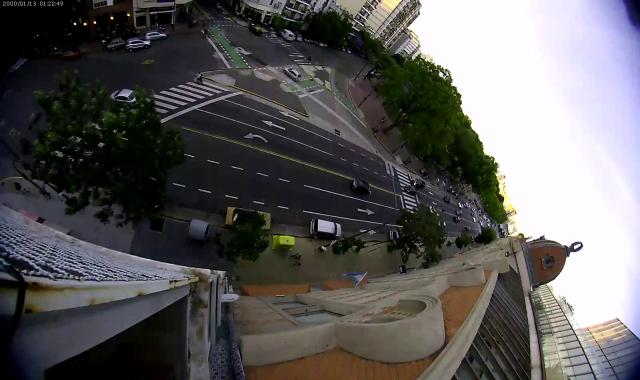car: (225, 208, 271, 231), (310, 219, 341, 238), (110, 89, 142, 107), (126, 37, 152, 52), (352, 180, 372, 194), (284, 67, 301, 81), (61, 48, 81, 59), (106, 39, 126, 50), (145, 31, 167, 41), (280, 29, 294, 41), (412, 178, 426, 189), (249, 26, 263, 36), (404, 186, 417, 196), (436, 219, 446, 228), (389, 230, 399, 238), (428, 206, 437, 214), (296, 34, 302, 42), (454, 216, 460, 223), (444, 197, 451, 203), (456, 210, 462, 215), (458, 203, 463, 208), (463, 202, 468, 207), (472, 218, 477, 222), (466, 204, 470, 208), (472, 208, 476, 212), (466, 227, 470, 231), (471, 213, 475, 216), (480, 220, 483, 223), (480, 222, 483, 225), (479, 214, 482, 216), (478, 220, 480, 222)
